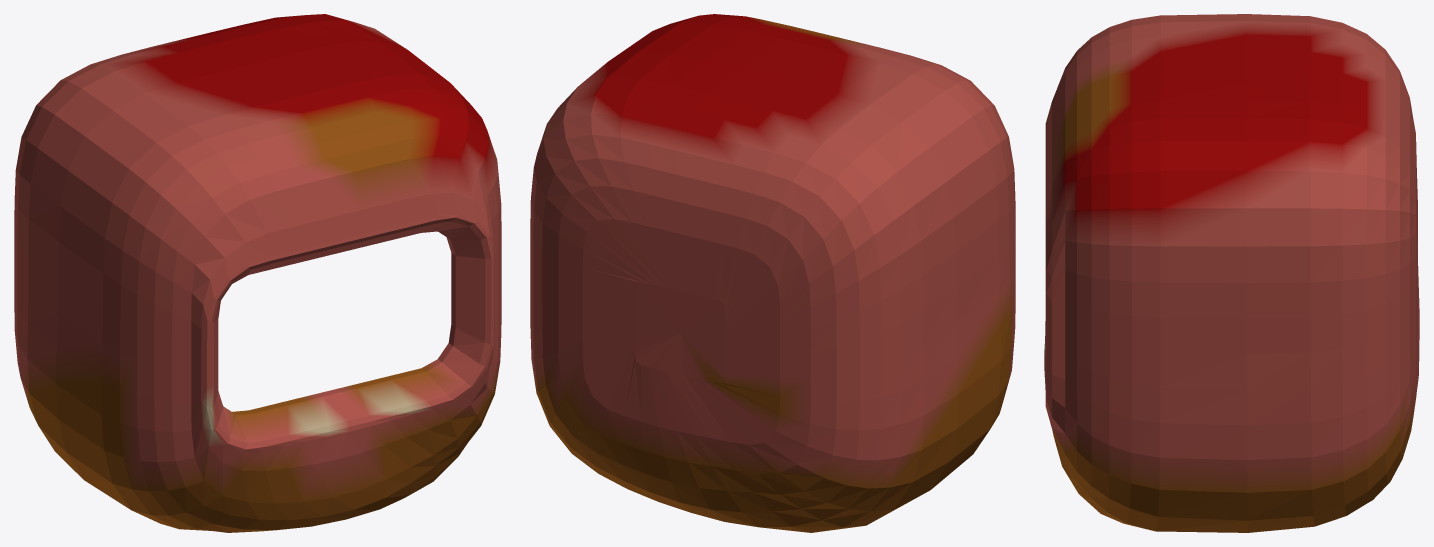
File: cupcake.glb
The picture shows the model from 3 angles, left to right: view 1: azimuth 30°, elevation 25°; view 2: azimuth 150°, elevation 25°; view 3: azimuth 270°, elevation 25°; orthographic projection.
Visible parts, largest first — view 1: geometry_0; view 2: geometry_0; view 3: geometry_0.
Part boxes in pixels (box(x1,y1,x2,y2)): geometry_0: box(14, 14, 501, 532); geometry_0: box(530, 14, 1015, 532); geometry_0: box(1044, 14, 1419, 532).
Size of the model in its own units: 1.76 by 1.75 by 1.47.
